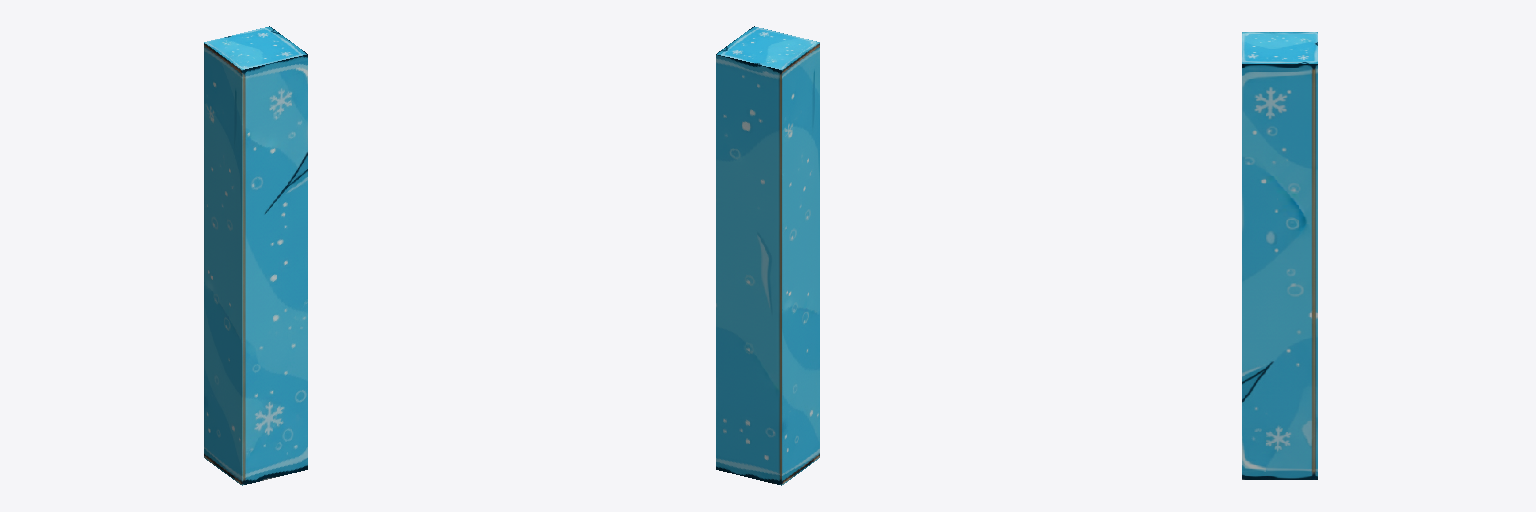
3 views of the same model, side by side, from view 1: azimuth 30°, elevation 25°; view 2: azimuth 150°, elevation 25°; view 3: azimuth 270°, elevation 25° (orthographic).
Parts seen in each view (by area): view 1: Cube.001; view 2: Cube.001; view 3: Cube.001.
Boxes of the visible parts, x1,y1,x2,y2 form: Cube.001: [204, 26, 307, 485]; Cube.001: [716, 26, 819, 485]; Cube.001: [1242, 32, 1317, 479].
Size of the model in its own units: 2 by 12 by 2.
Materials: 1 (1 with a texture image).